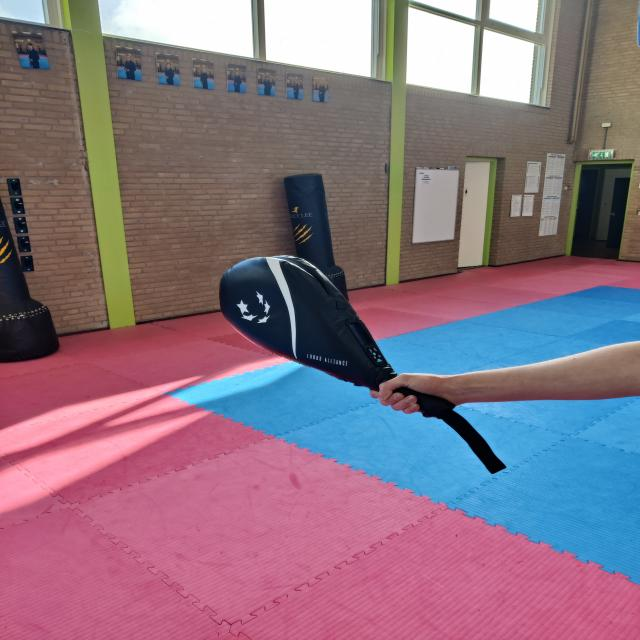paddle: (216, 252, 457, 421)
